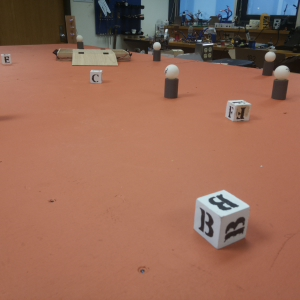obstacle: (273, 65, 289, 100), (163, 64, 178, 99), (264, 52, 274, 75), (151, 42, 161, 62), (75, 35, 84, 49)
side: (53, 45, 70, 61), (117, 46, 134, 61)
slope: (70, 50, 118, 68)
